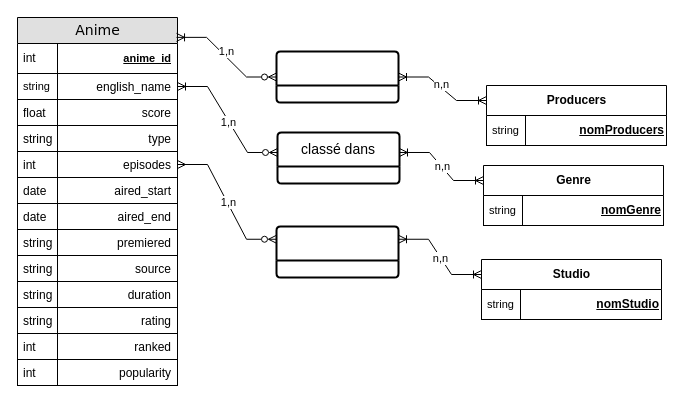
Image size: 684x406. Some labels were removed from this diagram. The centre of each missing label's shape, as x and y in pixels:
"a comme studio" goes at point 337,251.
"produit par" goes at point 337,76.
